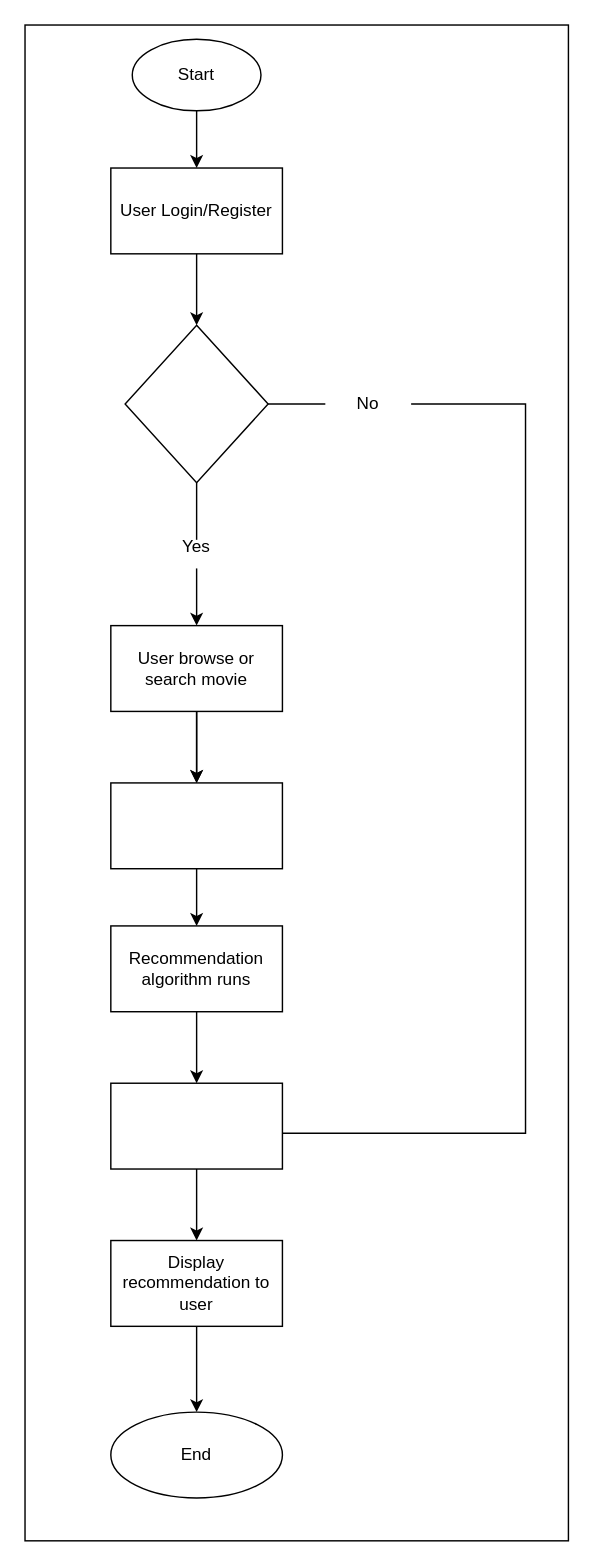
Some shapes in this 593 by 1566 pixel diagram are drawn without their labels. The box of each missing label's shape, as (x1, y1, x2, y2) in pixels:
Generate recommendeed movie list: (109, 1082, 282, 1169)
is user authenticated: (124, 324, 268, 483)
User rates or likes movie: (109, 781, 282, 869)
